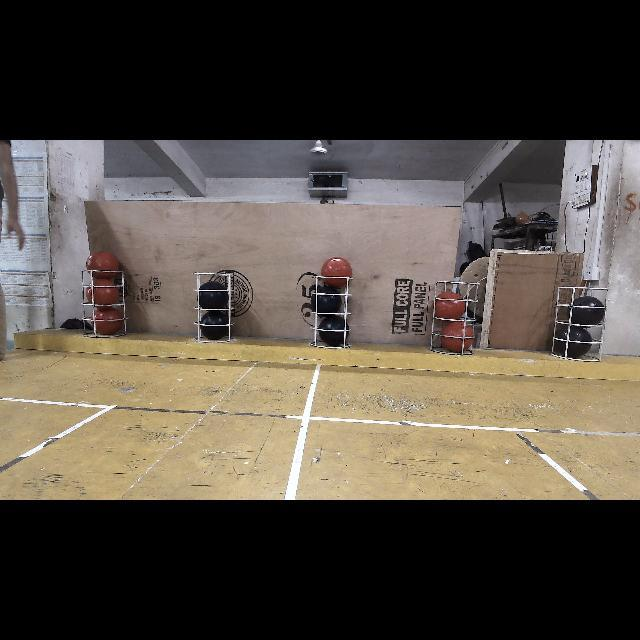P: (568, 297, 604, 329), (558, 328, 592, 357), (199, 311, 231, 339), (198, 282, 228, 310), (311, 286, 341, 314), (319, 316, 349, 344)
R: (86, 278, 120, 308), (441, 322, 474, 352), (321, 258, 352, 288), (86, 251, 119, 279), (91, 306, 121, 334), (434, 293, 464, 321)
S: (428, 276, 482, 358), (550, 284, 606, 356), (306, 270, 356, 348), (84, 268, 132, 342), (190, 270, 236, 344)
